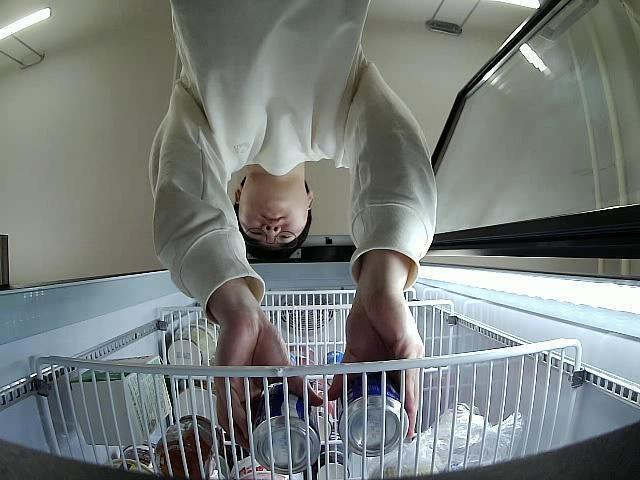13_pocariSweat: (250, 386, 320, 474), (336, 374, 408, 458)
